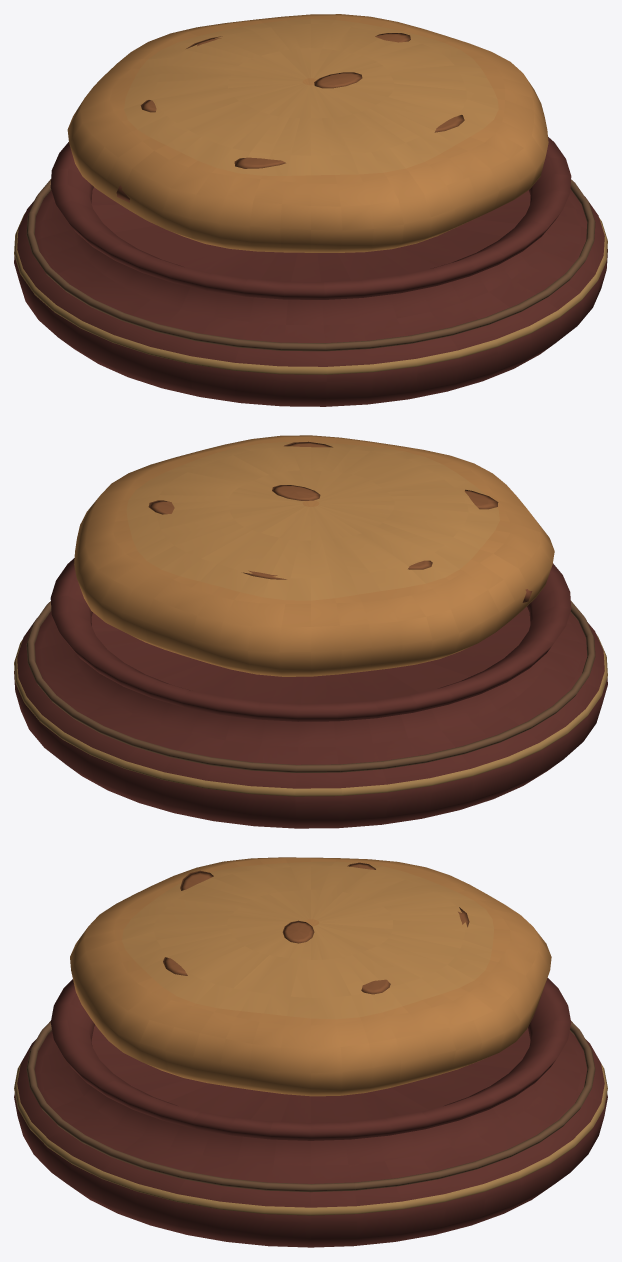
The model's file is hotteok.glb.
3 renders of one model, top to bottom at view 1: azimuth 30°, elevation 25°; view 2: azimuth 150°, elevation 25°; view 3: azimuth 270°, elevation 25°, orthographic.
Parts seen in each view (by area): view 1: Shared_burgundy_dessert_plate, Hotteok_thick_pan_fried_dough, Hotteok_golden_center, Shared_deep_recessed_band, Shared_antique_brass_outer_rim, Hotteok_uneven_pan_toast_6; view 2: Shared_burgundy_dessert_plate, Hotteok_thick_pan_fried_dough, Hotteok_golden_center, Shared_deep_recessed_band, Shared_antique_brass_outer_rim, Hotteok_uneven_pan_toast_6; view 3: Shared_burgundy_dessert_plate, Hotteok_thick_pan_fried_dough, Hotteok_golden_center, Shared_deep_recessed_band, Shared_antique_brass_outer_rim, Hotteok_uneven_pan_toast_6.
Boxes of the visible parts, box(x1,y1,x2,y2) form: Shared_burgundy_dessert_plate: box(14, 137, 607, 406); Hotteok_thick_pan_fried_dough: box(67, 14, 548, 252); Hotteok_golden_center: box(124, 19, 498, 175); Shared_deep_recessed_band: box(26, 179, 595, 351); Shared_antique_brass_outer_rim: box(14, 213, 607, 374); Hotteok_uneven_pan_toast_6: box(314, 72, 362, 88); Shared_burgundy_dessert_plate: box(14, 558, 607, 828); Hotteok_thick_pan_fried_dough: box(74, 435, 554, 676); Hotteok_golden_center: box(126, 442, 499, 600); Shared_deep_recessed_band: box(26, 600, 595, 772); Shared_antique_brass_outer_rim: box(14, 634, 607, 796); Hotteok_uneven_pan_toast_6: box(272, 485, 320, 500); Shared_burgundy_dessert_plate: box(14, 978, 607, 1247); Hotteok_thick_pan_fried_dough: box(70, 857, 551, 1096); Hotteok_golden_center: box(121, 861, 493, 1019); Shared_deep_recessed_band: box(26, 1021, 595, 1192); Shared_antique_brass_outer_rim: box(14, 1063, 607, 1215); Hotteok_uneven_pan_toast_6: box(282, 920, 314, 943).
Bounding box in the file's own units: 0.858 × 0.3374 × 0.858.
